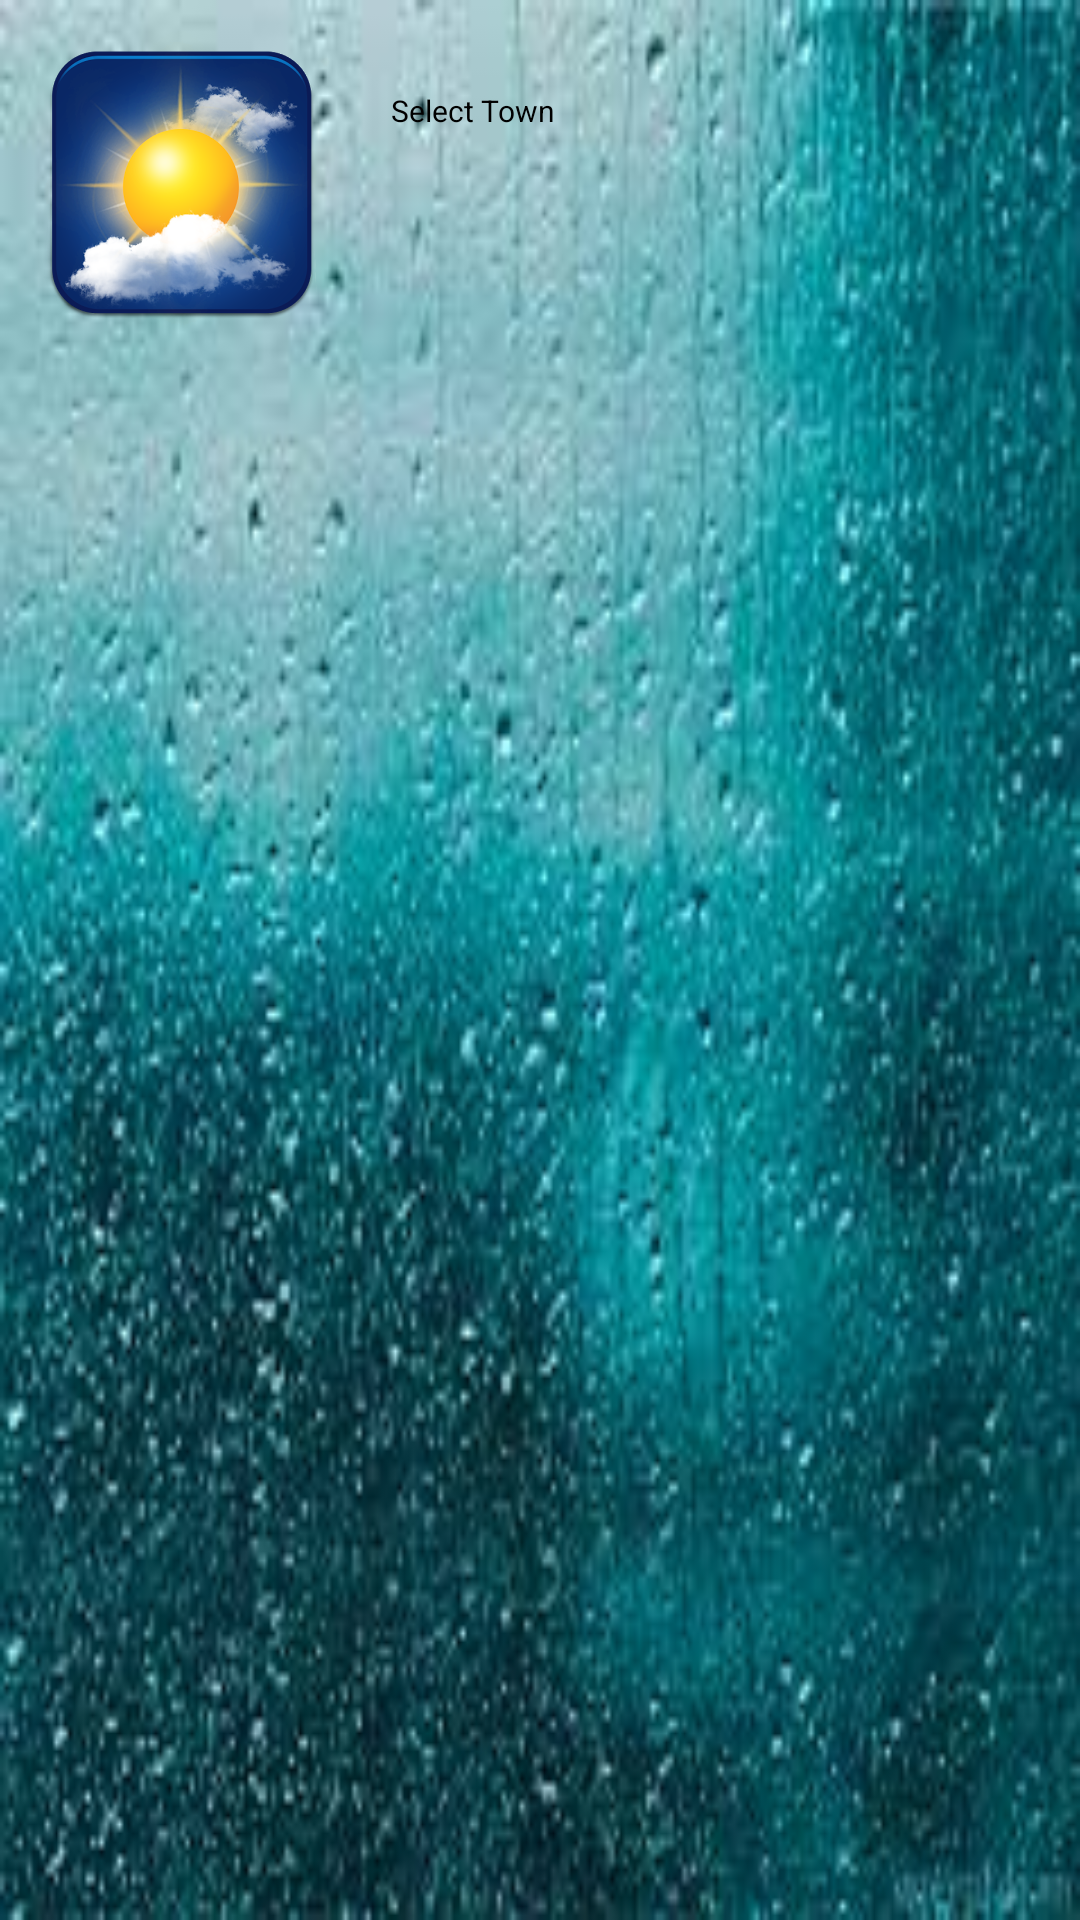

Where to tap for icons on this 1080×1920 app screen, as (x=x, y=y):
weather: (x=183, y=180)
